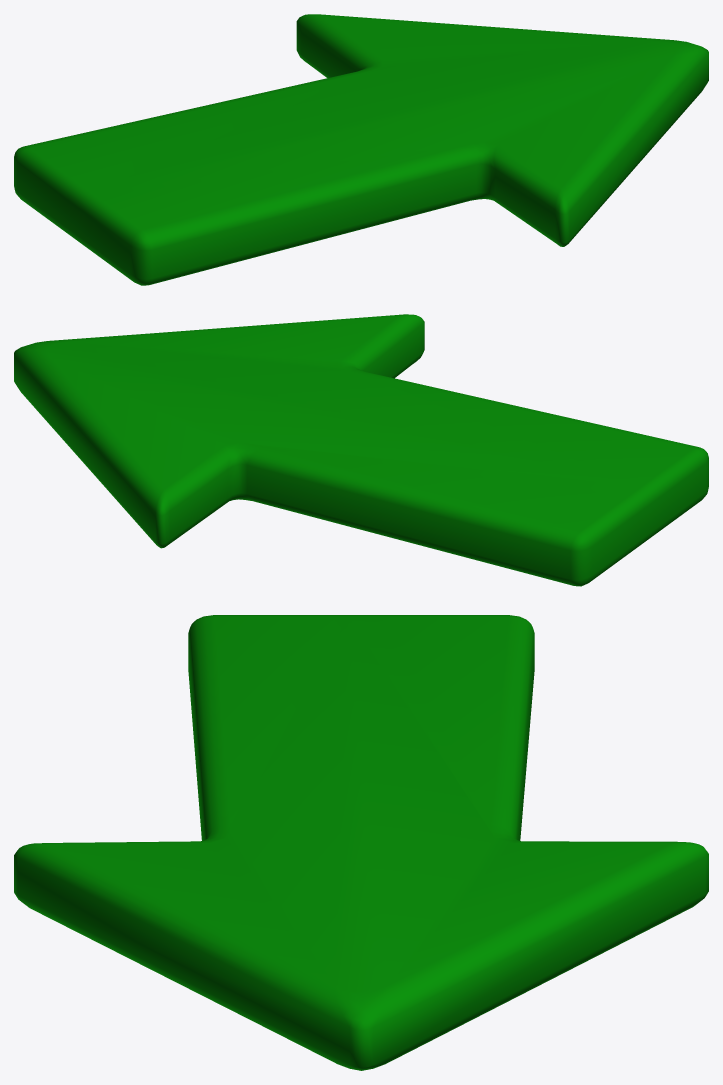
The model's file is direction.fbx.
The picture shows the model from 3 angles, top to bottom: view 1: azimuth 30°, elevation 25°; view 2: azimuth 150°, elevation 25°; view 3: azimuth 270°, elevation 25°; orthographic projection. The views are drawn at different scales.
Parts seen in each view (by area): view 1: Arrow; view 2: Arrow; view 3: Arrow.
Boxes of the visible parts, bbox=[...] form: Arrow: bbox=[14, 14, 708, 285]; Arrow: bbox=[14, 314, 708, 586]; Arrow: bbox=[14, 615, 708, 1070].
Bounding box in the file's own units: 291 × 23.43 × 211.
